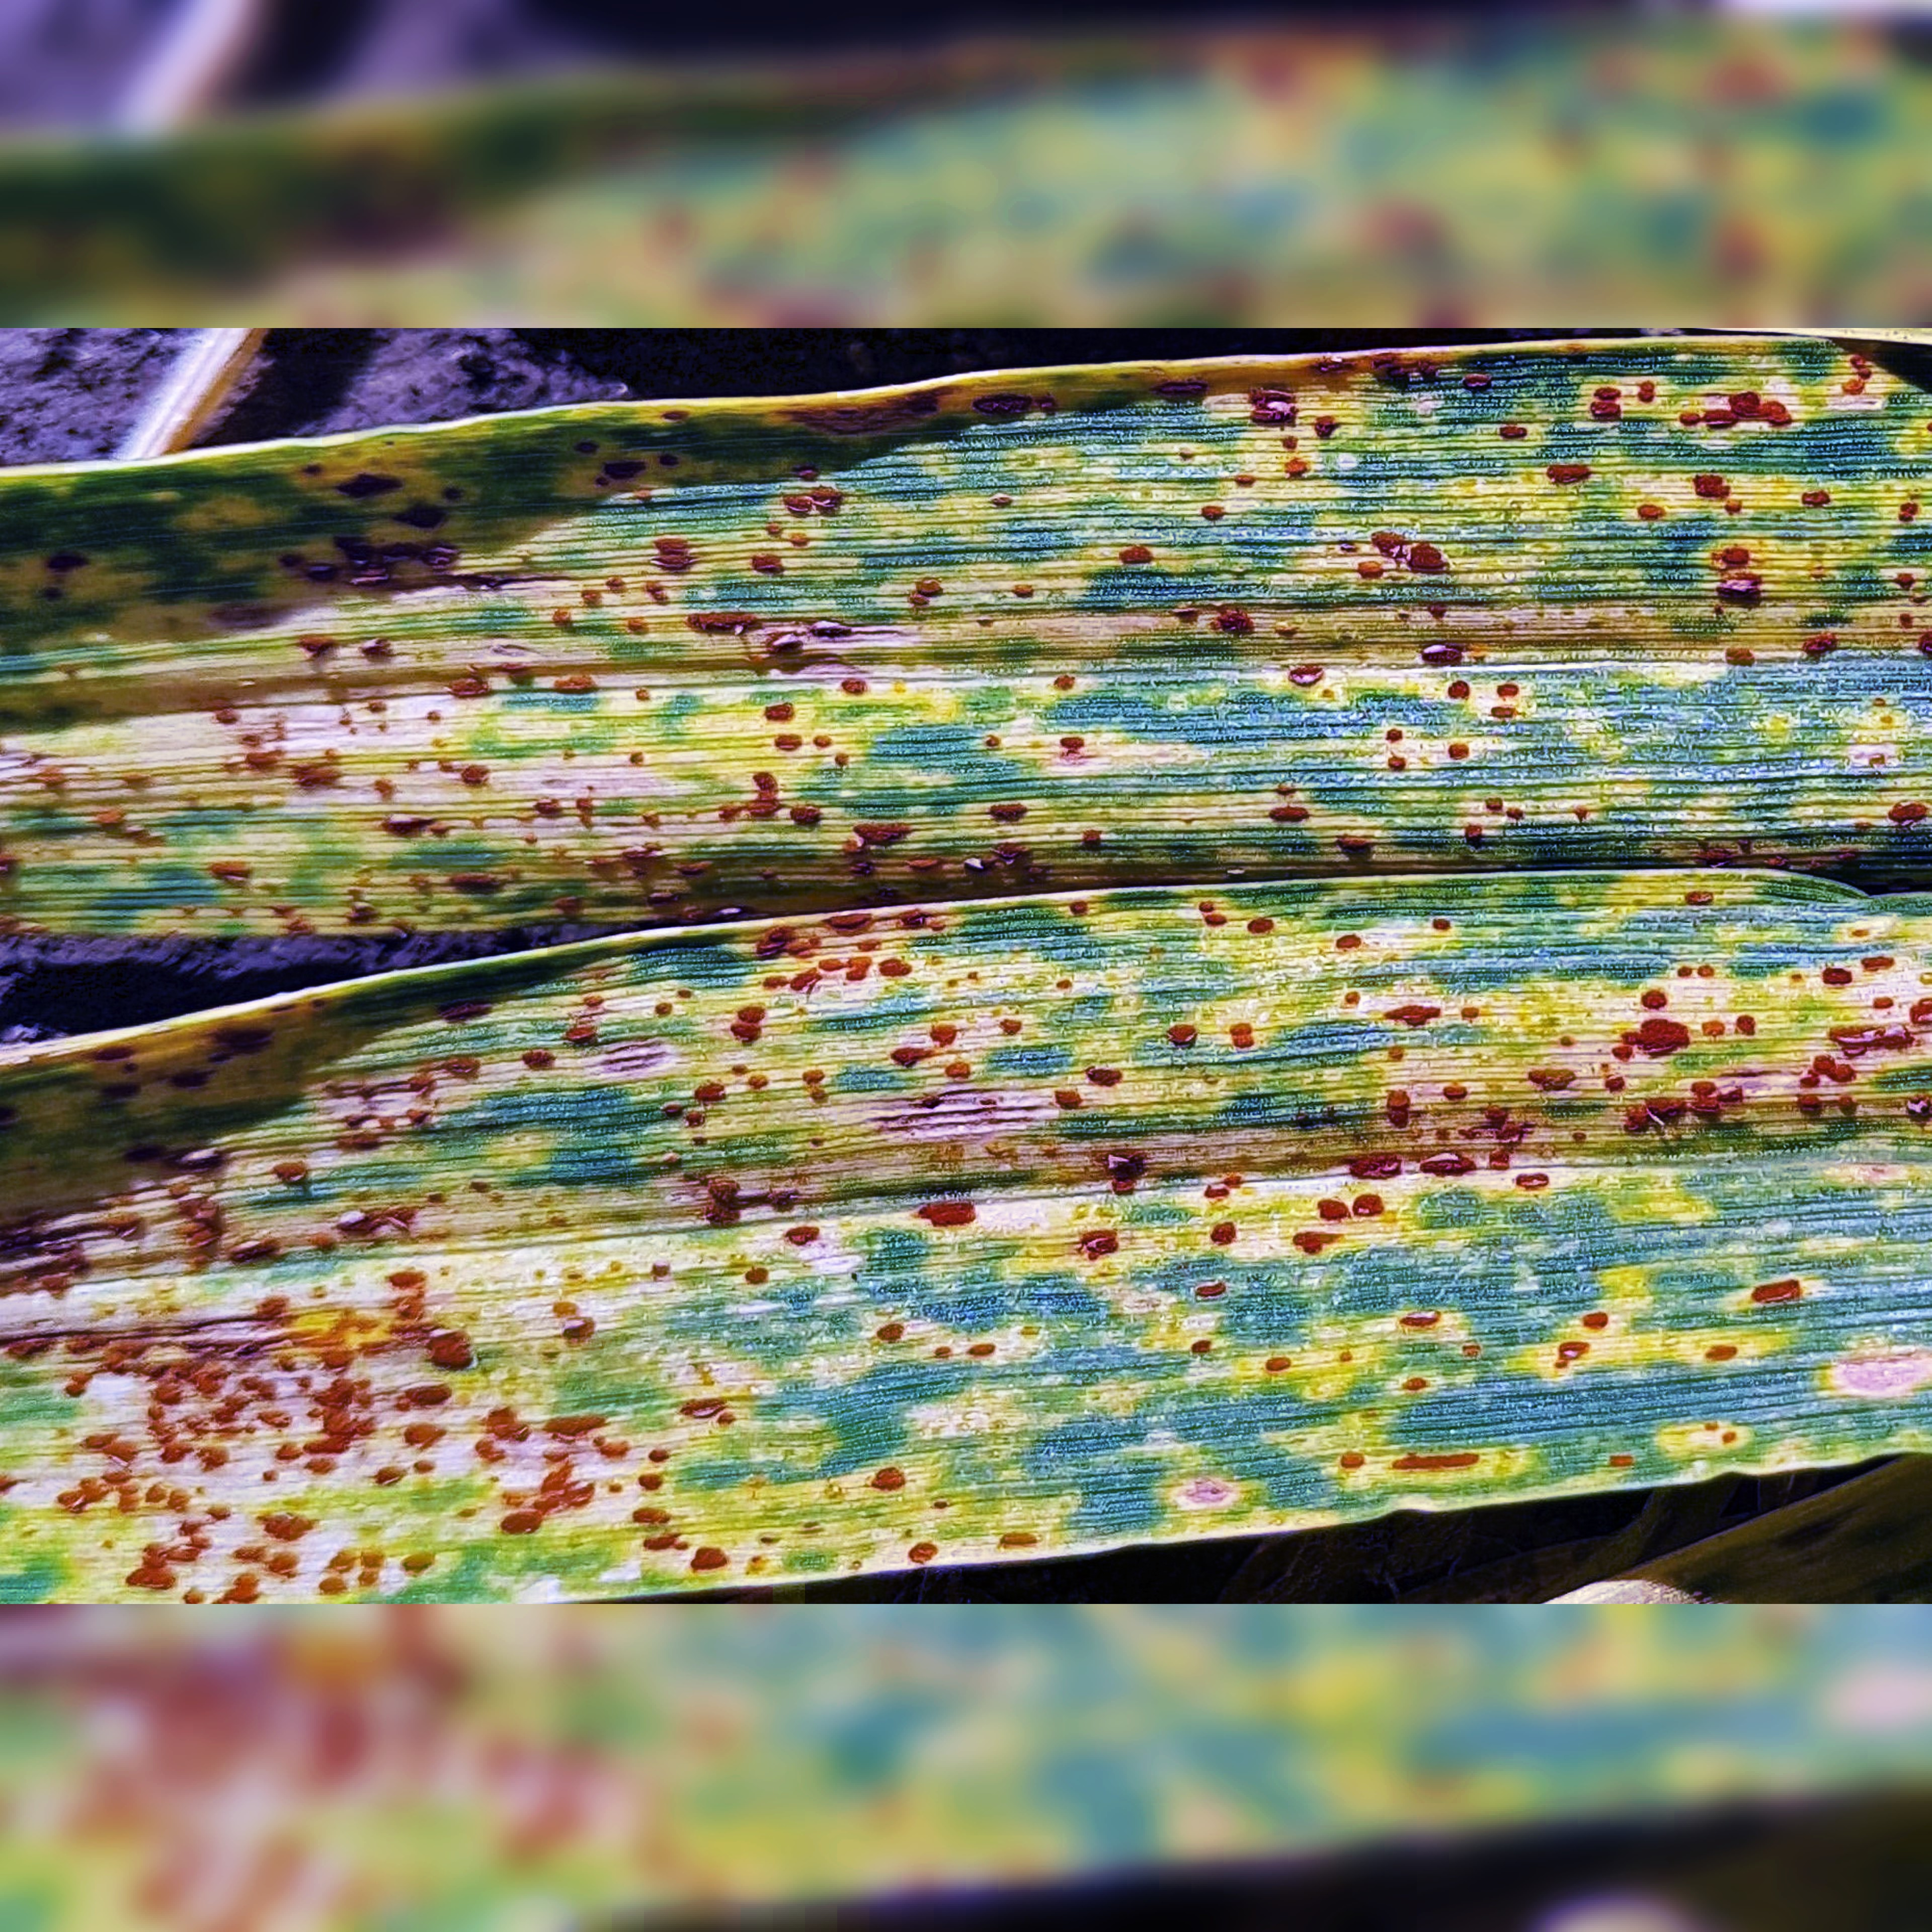Leaf Rust: (30, 862, 1890, 1605)
